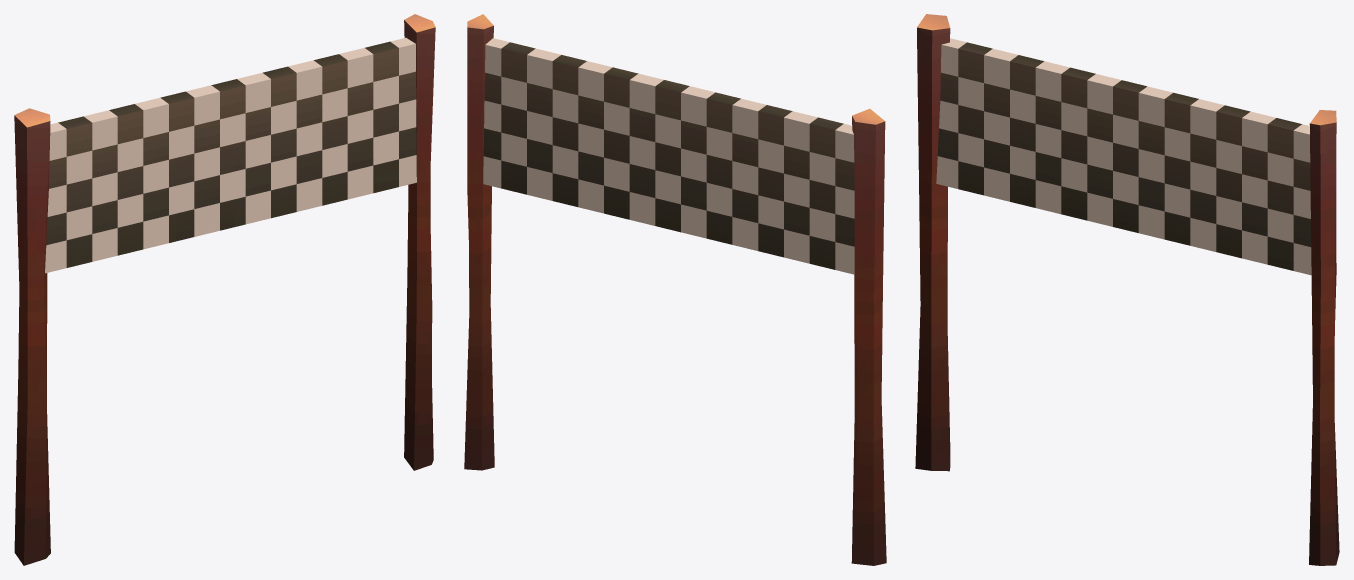
Rendered from Finish.FBX.
The picture shows the model from 3 angles, left to right: view 1: azimuth 30°, elevation 25°; view 2: azimuth 150°, elevation 25°; view 3: azimuth 330°, elevation 25°; orthographic projection.
Parts seen in each view (by area): view 1: Finish; view 2: Finish; view 3: Finish.
Boxes of the visible parts, x1,y1,x2,y2 form: Finish: (14, 14, 435, 565); Finish: (464, 14, 886, 565); Finish: (915, 14, 1339, 565).
Size of the model in its own units: 0.5341 by 0.5479 by 0.045.
